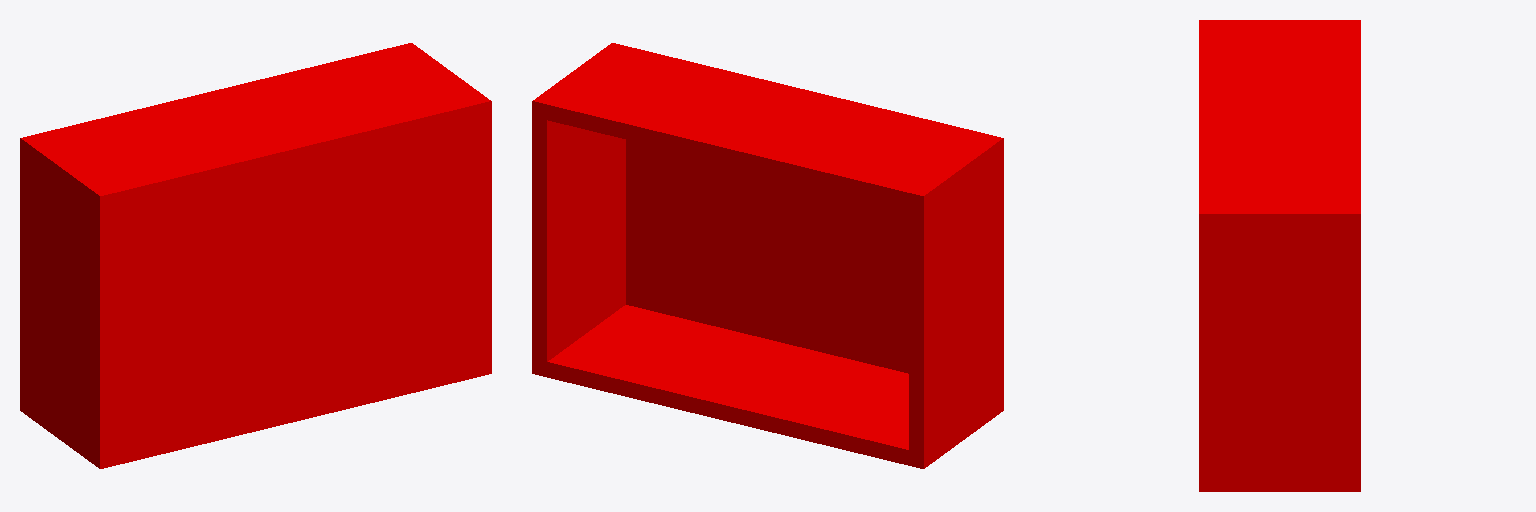
robot.urdf — tote_box.urdf:
<?xml version="0.0" ?>
<robot name="tote_box.urdf">
  <link name="baseLink">
    <contact>
      <lateral_friction value="0.8"/>
      <rolling_friction value="0.001"/>g
      <contact_cfm value="0.0"/>
      <contact_erp value="1.0"/>
    </contact>
    <inertial>
    <origin rpy="0 0 0" xyz="0.01 0.0 0.01"/>
       <mass value=".66"/>
       <inertia ixx="1e-3" ixy="0" ixz="0" iyy="1e-3" iyz="0" izz="1e-3"/>
    </inertial>
    <visual>
      <geometry>
        <mesh filename="tote_box.obj" scale="0.001 0.001 0.001"/>
      </geometry>
      <!-- <material name="white">
        <color rgba="1. 1. 1. 1."/>
      </material> -->
      <material name="red">
        <color rgba="1. 0. 0. 1."/>
      </material>
    </visual>
    <collision>
      <geometry>
    	 	<!-- <mesh filename="totebox_600x400x212-refine_Pocket.stl" scale="0.001 0.001 0.001"/> -->
        <mesh filename="tote_box_collision.obj" scale="0.001 0.001 0.001"/>
      </geometry>
    </collision>
  </link>
</robot>

--- Render facts (derived) ---
3 views of the same robot in one strip: view 1: azimuth 30°, elevation 25°; view 2: azimuth 150°, elevation 25°; view 3: azimuth 270°, elevation 25° (orthographic).
Model tote_box.urdf with 1 links and 0 joints (none), rooted at baseLink, posed all joints at 0.
Links seen in each view (by area): view 1: baseLink; view 2: baseLink; view 3: baseLink.
Link boxes in pixels (x1,y1,x2,y2): baseLink: (20,43,491,468); baseLink: (532,43,1003,468); baseLink: (1199,20,1360,491).
Size in the robot's own frame: 0.6 by 0.212 by 0.4 metres.
1 mesh visuals loaded from 1 distinct referenced files (1 OBJ).